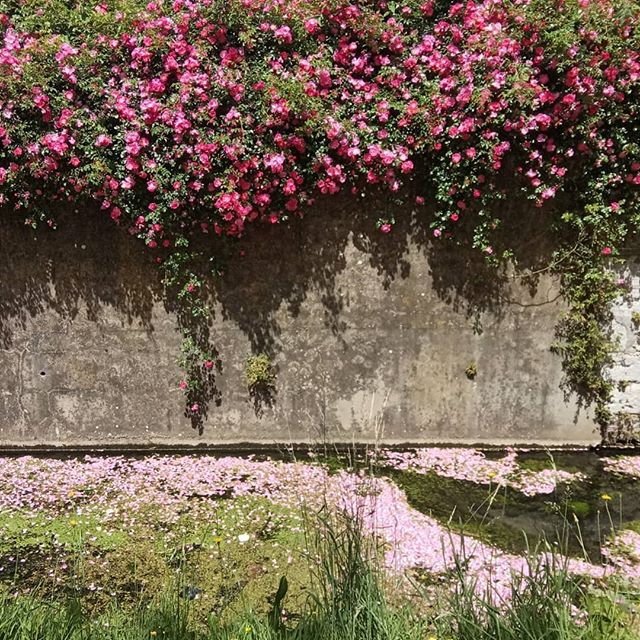flowers: (7, 1, 632, 220)
grass: (60, 450, 572, 640)
wall: (29, 209, 640, 464)
